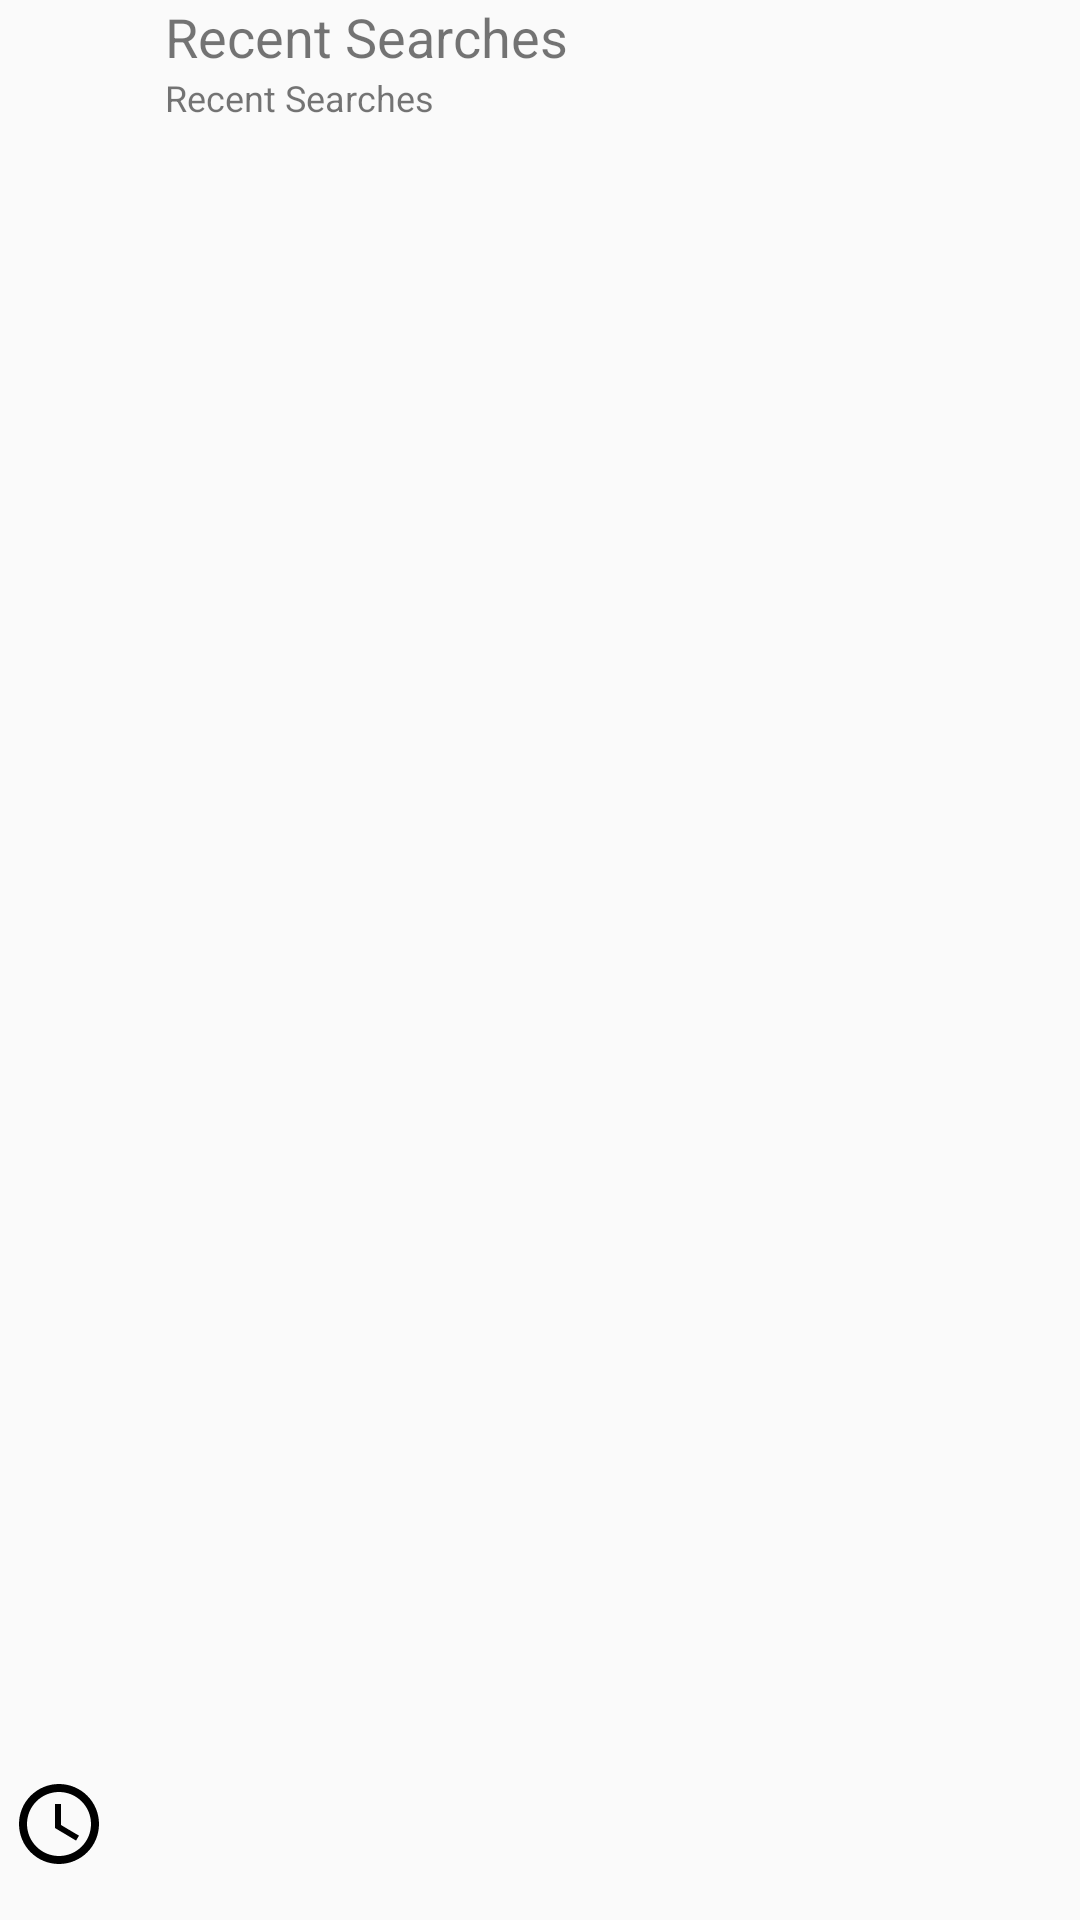

Screen size 1080px x 1920px. Icon name, then its center in pixels as [x,y]:
access time: [59,1824]
